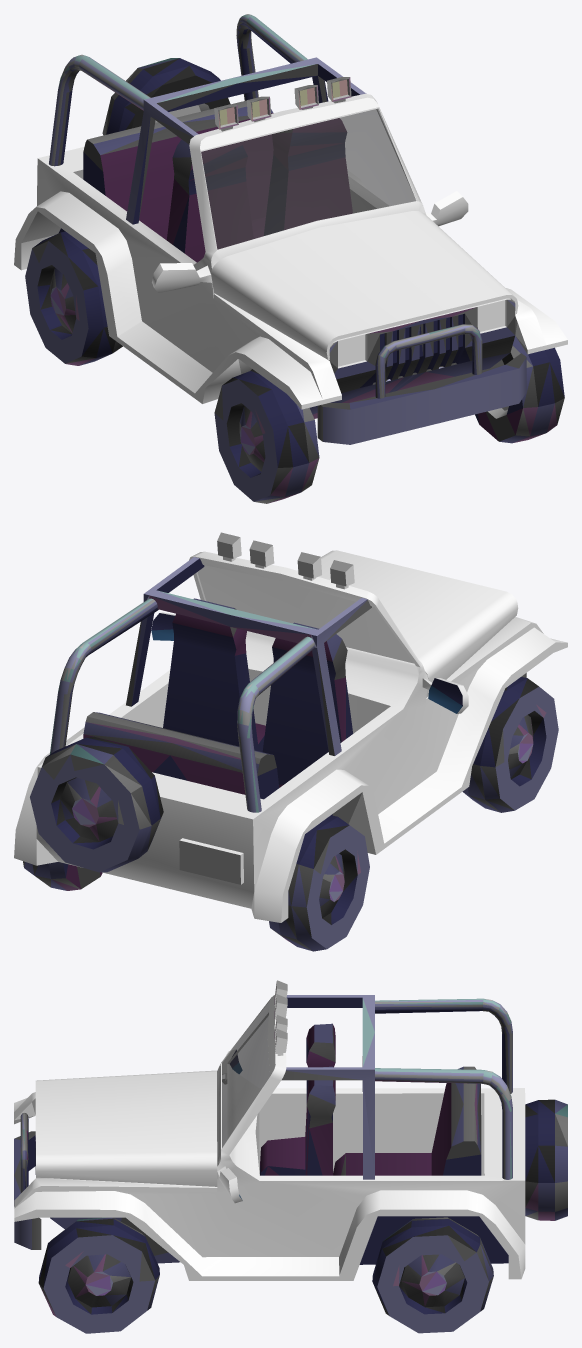
The model's file is jeep.glb.
The picture shows the model from 3 angles, top to bottom: view 1: azimuth 30°, elevation 25°; view 2: azimuth 150°, elevation 25°; view 3: azimuth 270°, elevation 25°; orthographic projection. The views are drawn at different scales.
Visible parts, largest first — view 1: Paint, Trim_222_glass, Trim_112_solid (×4), Trim_334_solid (×3), Trim_212_solid, Trim_222_solid (×3), Trim_223_solid (×3), Trim_111_solid (×4), Trim_333_solid, Trim_445_solid, Trim_444_solid, Trim_323_solid (×2) (+3 smaller); view 2: Paint, Trim_112_solid (×3), Trim_334_solid (×3), Trim_223_solid (×4), Trim_222_solid (×3), Trim_212_solid, Trim_333_solid, Trim_444_solid, Trim_111_solid (×3), Trim_445_solid, Trim_323_solid, Trim_455_solid (+3 smaller); view 3: Paint, Trim_334_solid (×3), Trim_112_solid (×3), Trim_222_solid (×3), Trim_212_solid, Trim_223_solid (×3), Trim_222_glass, Trim_333_solid, Trim_111_solid (×3), Trim_445_solid, Trim_444_solid, Trim_455_solid (+2 smaller).
Part boxes in pixels (x1,y1,x2,y2): Paint: (14,80,567,409); Trim_222_glass: (201,108,415,249); Trim_112_solid (×4): (33,28,564,477); Trim_334_solid (×3): (25,19,526,501); Trim_212_solid: (100,113,352,262); Trim_222_solid (×3): (57,25,564,494); Trim_223_solid (×3): (54,23,554,501); Trim_111_solid (×4): (33,58,564,476); Trim_333_solid: (51,21,515,441); Trim_445_solid: (64,16,472,349); Trim_444_solid: (61,18,514,356); Trim_323_solid (×2): (93,78,475,503); Paint: (14,537,567,922); Trim_112_solid (×3): (47,558,546,924); Trim_334_solid (×3): (30,599,558,948); Trim_223_solid (×4): (24,594,528,951); Trim_222_solid (×3): (42,608,533,950); Trim_212_solid: (83,613,345,794); Trim_333_solid: (42,600,526,829); Trim_444_solid: (60,532,352,884); Trim_111_solid (×3): (51,678,543,924); Trim_445_solid: (64,557,366,824); Trim_323_solid: (87,595,313,841); Trim_455_solid: (74,590,315,697); Paint: (14,988,525,1280); Trim_334_solid (×3): (14,1004,512,1333); Trim_112_solid (×3): (24,997,554,1314); Trim_222_solid (×3): (14,1009,567,1314); Trim_212_solid: (26,1025,451,1175); Trim_223_solid (×3): (14,1007,567,1311); Trim_222_glass: (222,1002,269,1147); Trim_333_solid: (20,982,567,1249); Trim_111_solid (×3): (39,1099,554,1315); Trim_445_solid: (21,995,507,1149); Trim_444_solid: (20,980,511,1158); Trim_455_solid: (362,998,500,1077).
Bounding box in the file's own units: 2.43 × 2.22 × 4.2.
